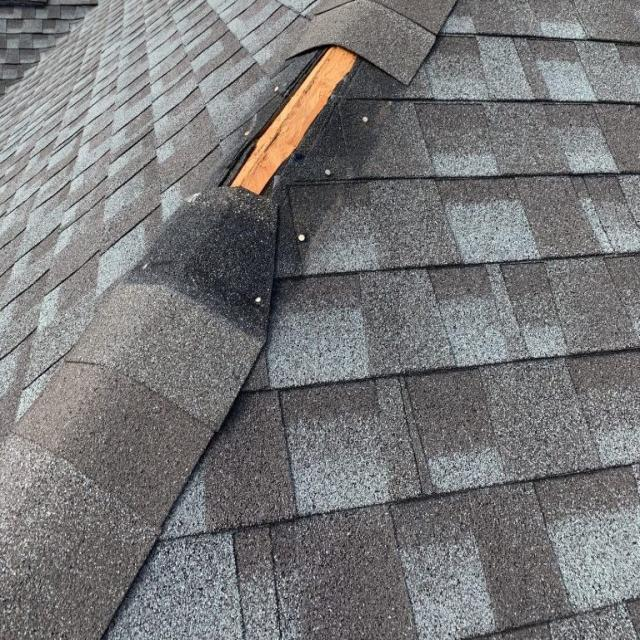damage: (181, 44, 417, 253)
